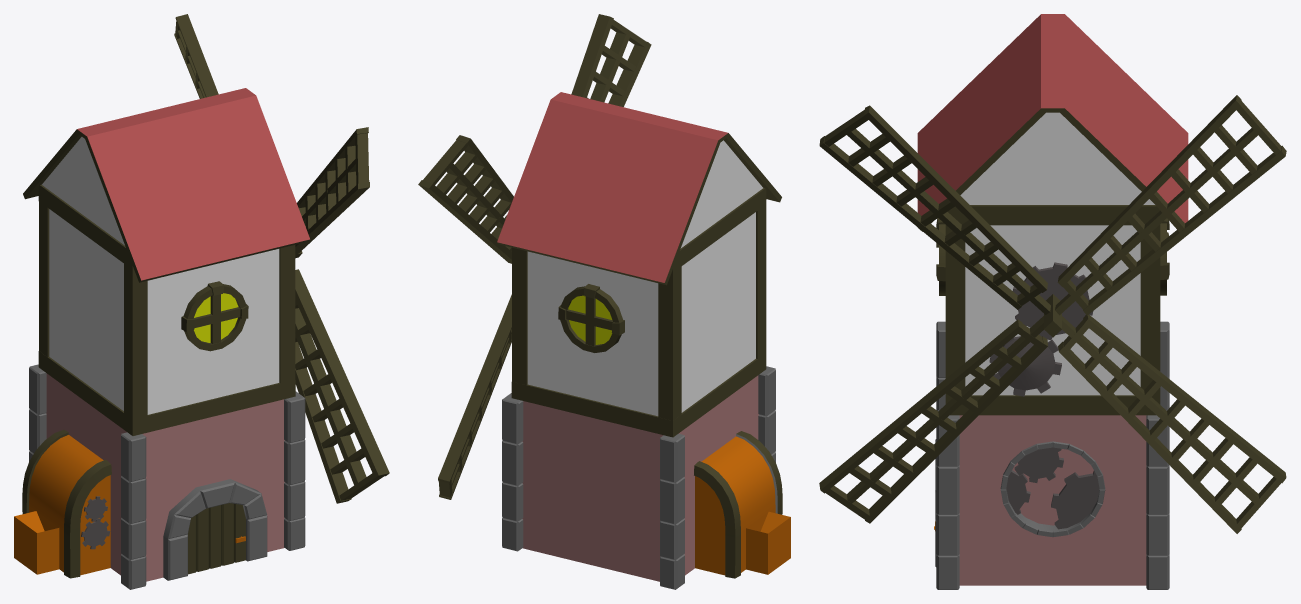
Rendered from Windmill.fbx.
3 renders of one model, left to right at view 1: azimuth 30°, elevation 25°; view 2: azimuth 150°, elevation 25°; view 3: azimuth 270°, elevation 25°, orthographic. The views are drawn at different scales.
Parts seen in each view (by area): view 1: Mill, Door; view 2: Mill; view 3: Mill.
Part boxes in pixels (x1,y1,x2,y2): Mill: (14,14,389,589); Door: (188,503,245,574); Mill: (418,14,790,589); Mill: (819,14,1286,589).
Size of the model in its own units: 6.87 by 10.45 by 8.91.
